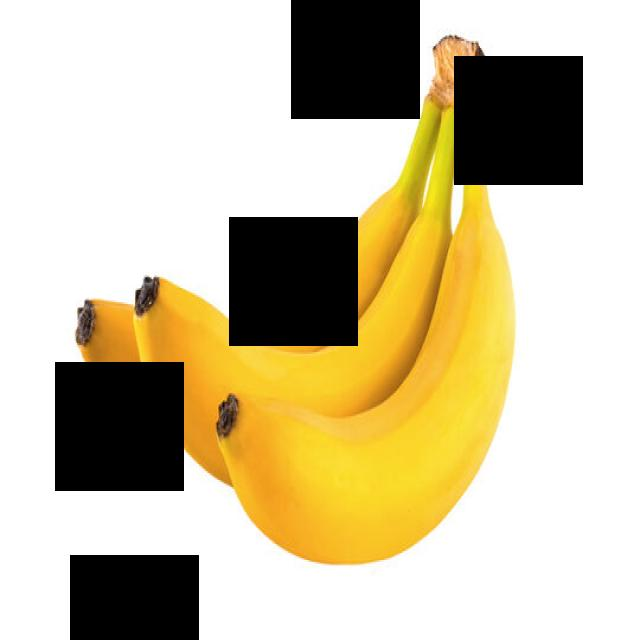banana: (76, 87, 440, 447), (216, 136, 516, 564), (133, 112, 456, 489)
